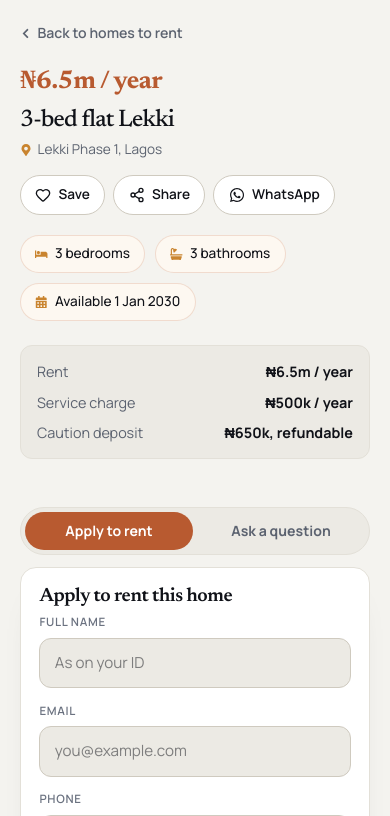
Test case: a rental also takes a plain enquiry
Click the button "Ask a question".
click(281, 531)  # box [197,512,365,550]
(page scrolled)
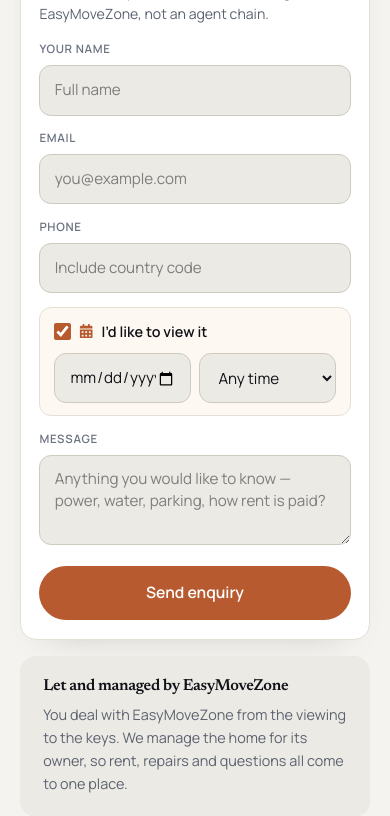
Expected: the button "Send enquiry" is shown, [39,566,351,620]
